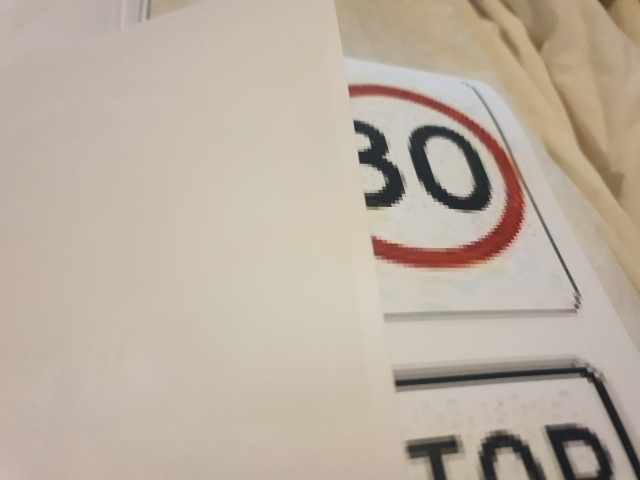sp30: (300, 68, 548, 268)
